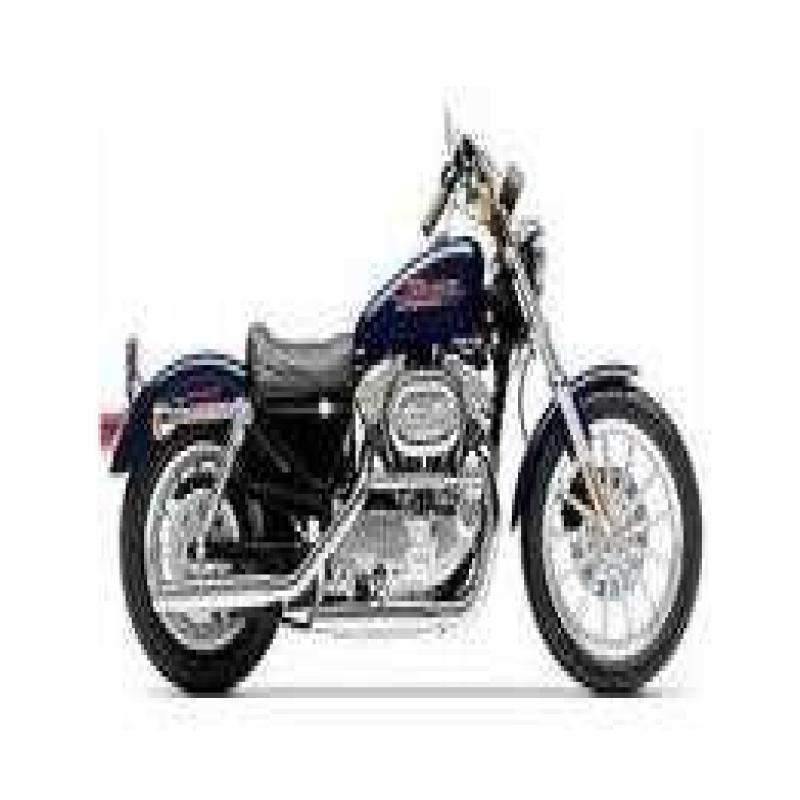bike: (91, 106, 717, 683)
